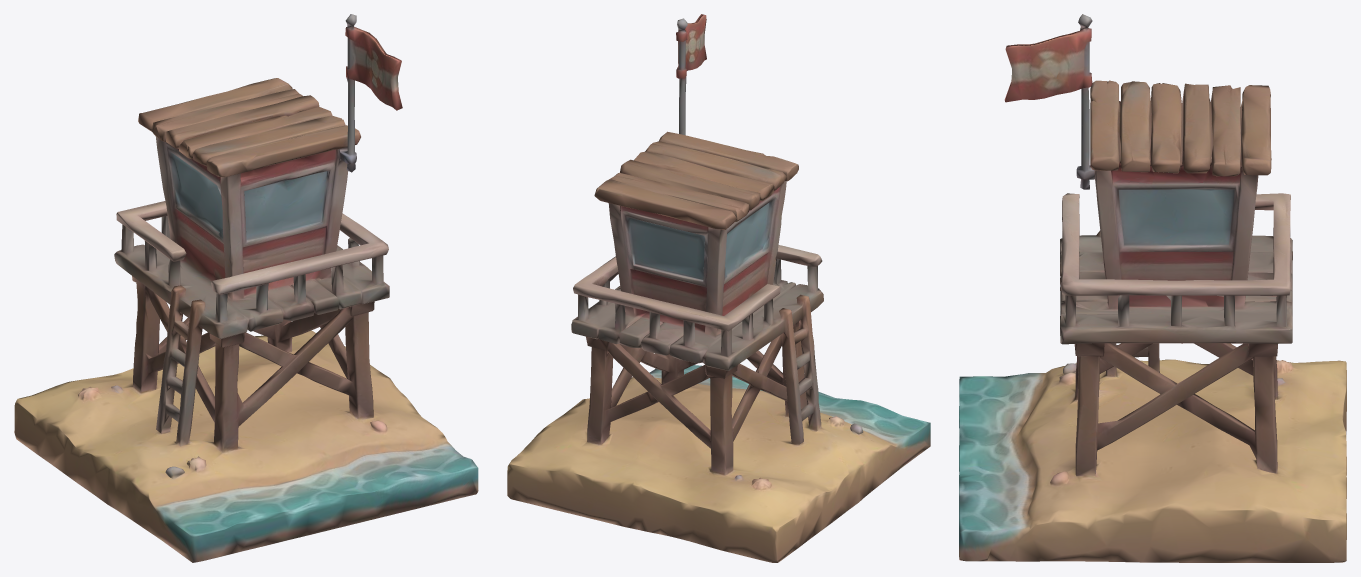
Rendered from beach_lifeguard_tower.glb.
3 renders of one model, left to right at view 1: azimuth 30°, elevation 25°; view 2: azimuth 150°, elevation 25°; view 3: azimuth 270°, elevation 25°, orthographic. The views are drawn at different scales.
Visible parts, largest first — view 1: tripo_node_62a81d4f-eea8-4010-9c4b-836b087a8c2c; view 2: tripo_node_62a81d4f-eea8-4010-9c4b-836b087a8c2c; view 3: tripo_node_62a81d4f-eea8-4010-9c4b-836b087a8c2c.
Part boxes in pixels (<box>): tripo_node_62a81d4f-eea8-4010-9c4b-836b087a8c2c: <box>14,14,478,562</box>; tripo_node_62a81d4f-eea8-4010-9c4b-836b087a8c2c: <box>507,14,930,562</box>; tripo_node_62a81d4f-eea8-4010-9c4b-836b087a8c2c: <box>959,14,1346,562</box>.
Size of the model in its own units: 0.6761 by 1 by 0.6908.
Materials: 1 (1 with a texture image).
